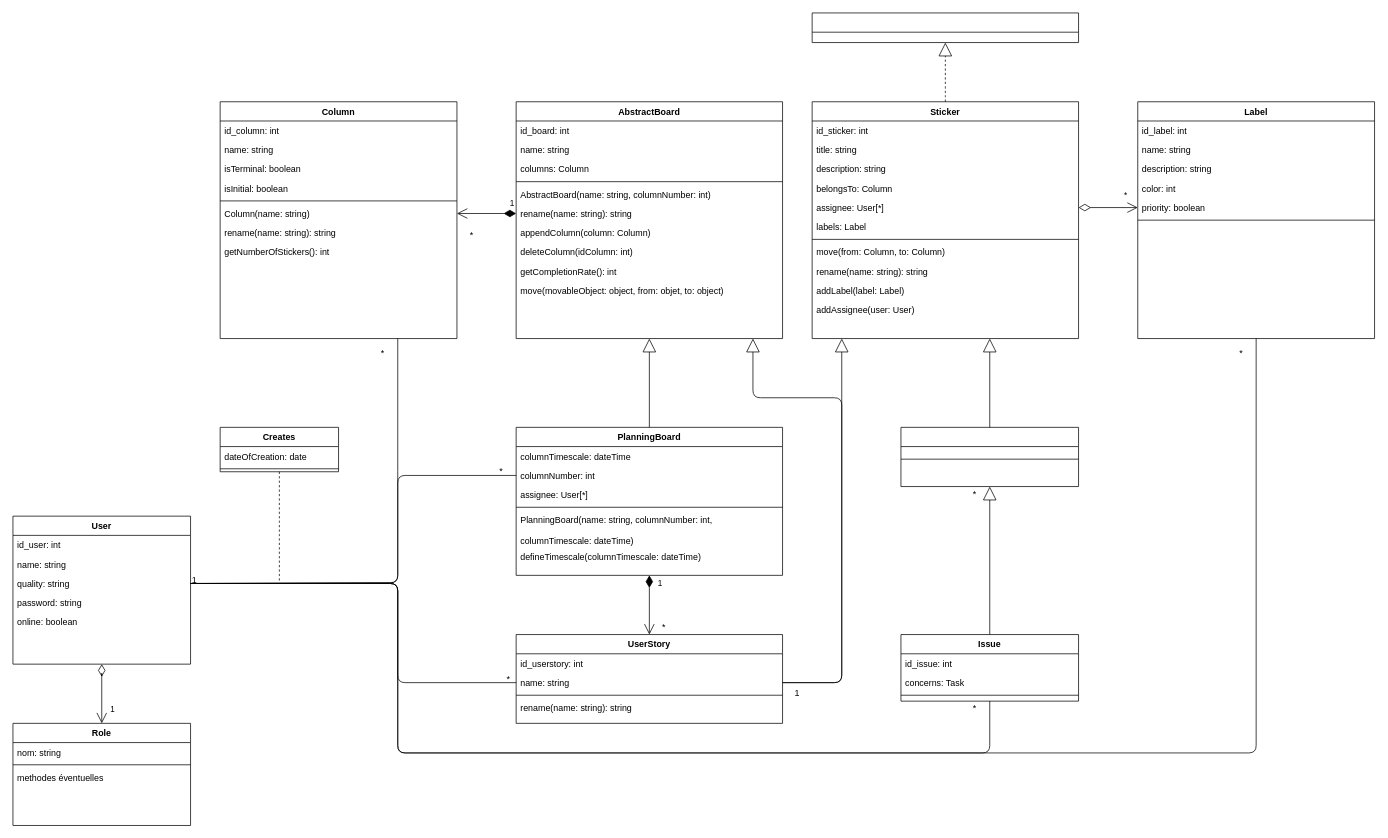
The diagram is 1388 pixels wide and 838 high, and some of its shapes have lost their labels. Here are the shapes that lost their labels. From the top down, the centre of each, then its label:
the point at 945,27: Movable
the point at 989,457: Task
